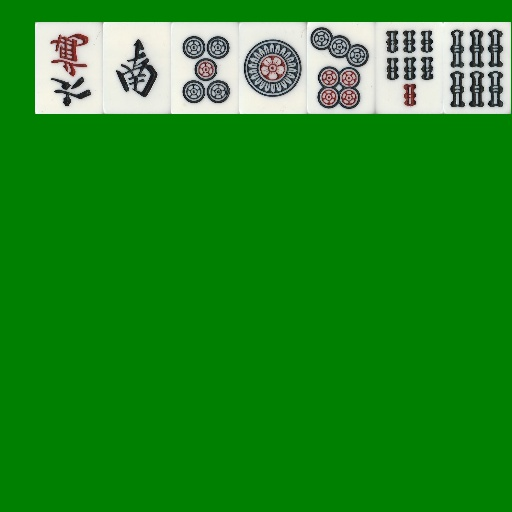1p: (239, 22, 307, 114)
5p: (171, 22, 239, 114)
6m: (35, 22, 103, 114)
6s: (443, 22, 511, 114)
7p: (307, 22, 375, 114)
7s: (375, 22, 443, 114)
south: (103, 22, 171, 114)
